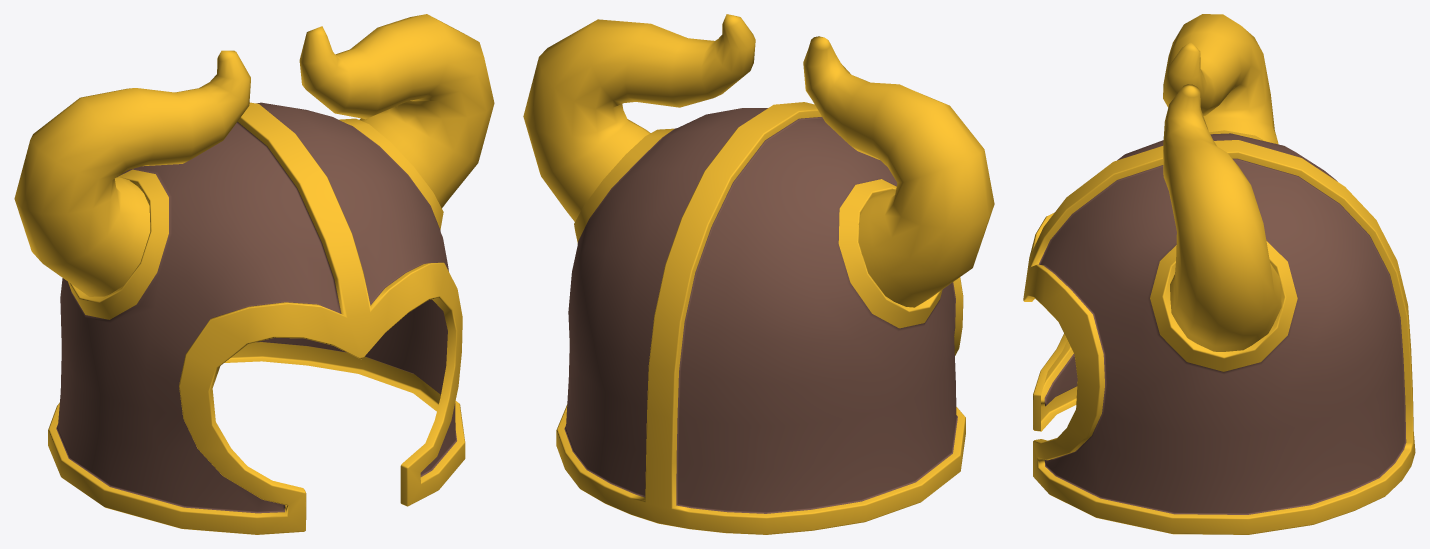
The model's file is Hat_072.glb.
3 renders of one model, left to right at view 1: azimuth 30°, elevation 25°; view 2: azimuth 150°, elevation 25°; view 3: azimuth 270°, elevation 25°, orthographic. The views are drawn at different scales.
Parts seen in each view (by area): view 1: Hat_072; view 2: Hat_072; view 3: Hat_072.
Part boxes in pixels (bbox=[...]): Hat_072: bbox=[14, 14, 494, 534]; Hat_072: bbox=[523, 14, 994, 534]; Hat_072: bbox=[1023, 14, 1415, 534].
Bounding box in the file's own units: 0.6481 × 0.5565 × 0.5071.
Materials: 1 (1 with a texture image).
